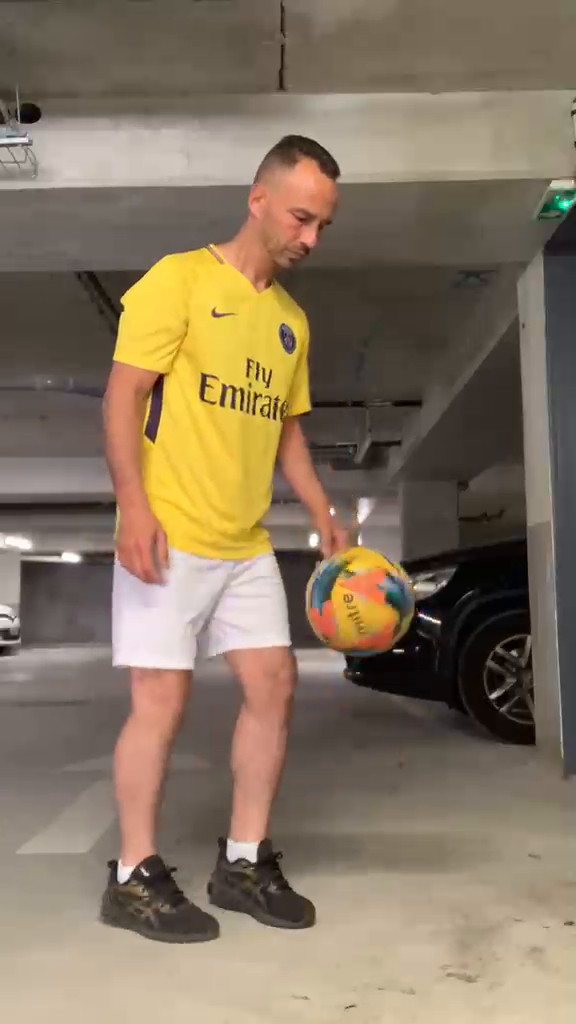ball: (305, 544, 415, 654)
